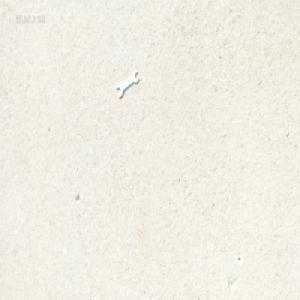Wrench: (116, 70, 138, 98)
